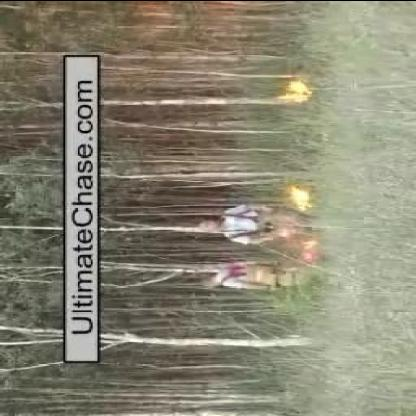foggia-v2-map80-epoch100 - v1 4323: (279, 80, 313, 103), (291, 184, 312, 211)
